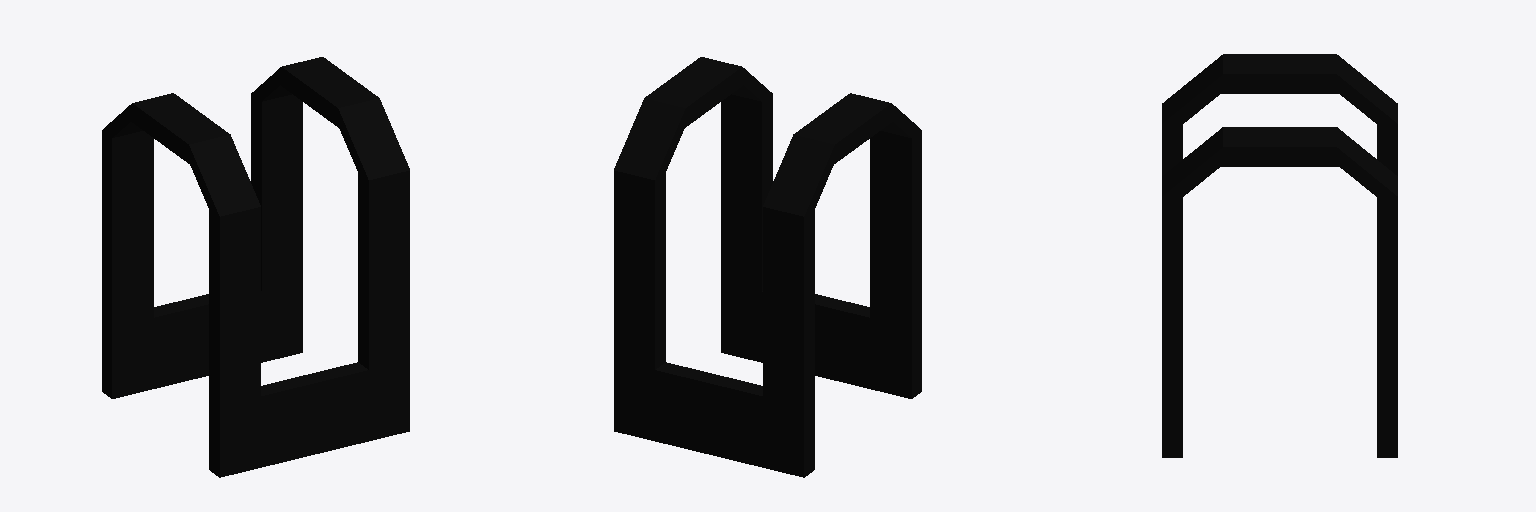
Rendered from belt.obj.
3 renders of one model, left to right at view 1: azimuth 30°, elevation 25°; view 2: azimuth 150°, elevation 25°; view 3: azimuth 270°, elevation 25°, orthographic.
Parts seen in each view (by area): view 1: Plane003; view 2: Plane003; view 3: Plane003.
Boxes of the visible parts, x1=… form: Plane003: x1=102, y1=57, x2=409, y2=477; Plane003: x1=614, y1=57, x2=921, y2=477; Plane003: x1=1162, y1=54, x2=1397, y2=457.
Size of the model in its own units: 0.2737 by 0.4261 by 0.2935.